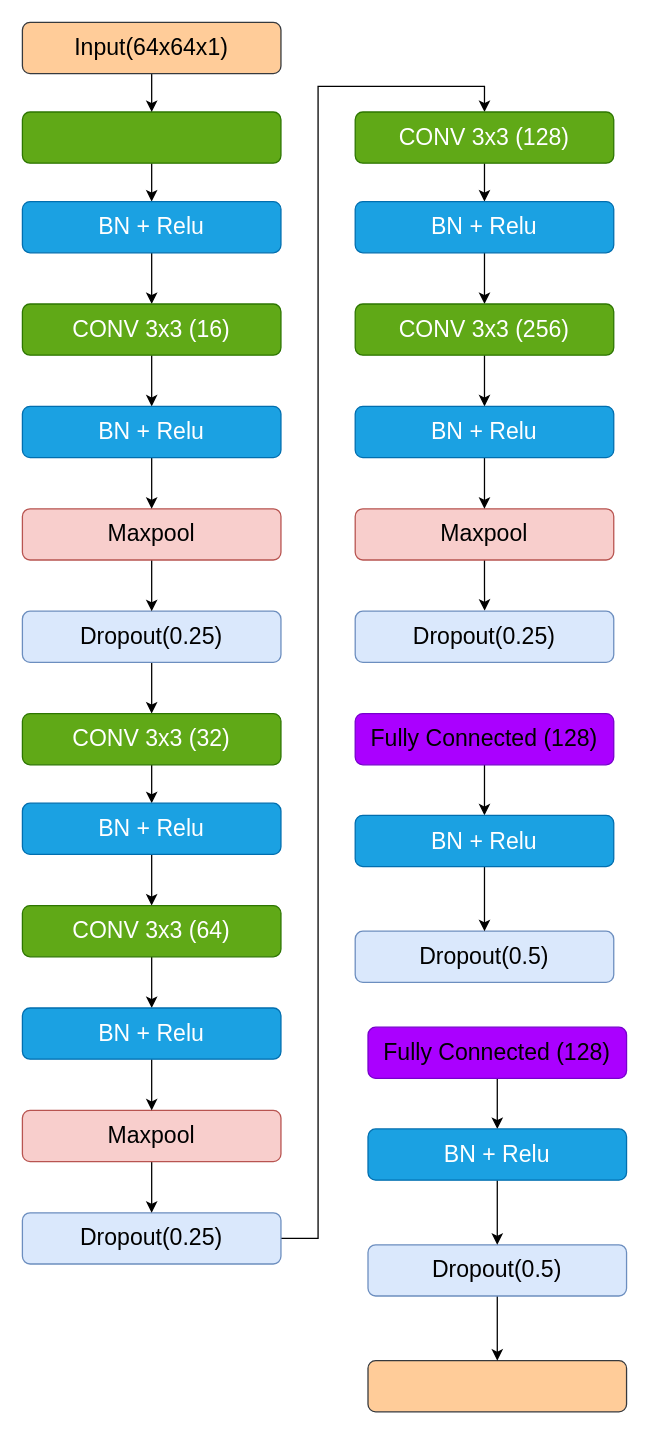
The diagram is 649 pixels wide and 1435 high, and some of its shapes have lost their labels. The shapes that lost their labels are listed below. From the top down, each one's box as (x1, y1, x2, y2) in pixels, then its label:
(21, 111, 281, 163): CONV 3x3 (8)
(367, 1359, 627, 1412): Output(10)
